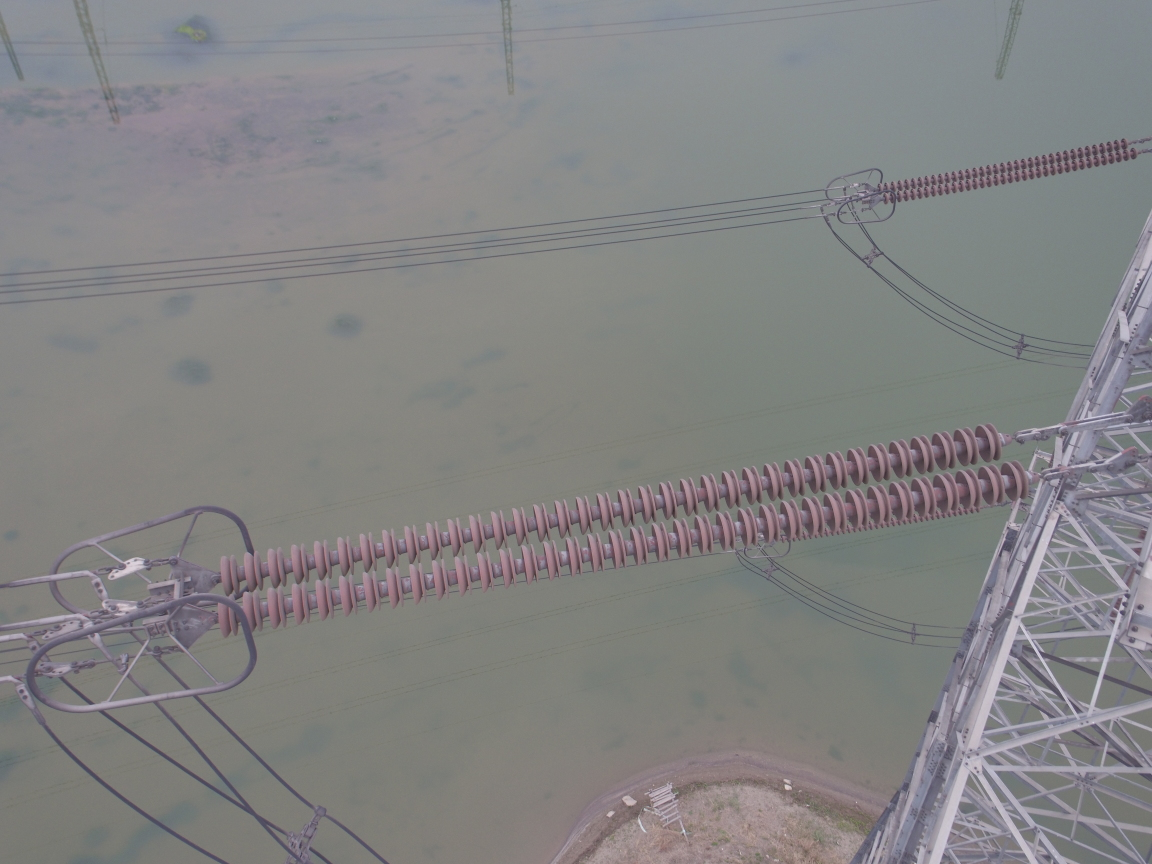insulator: (199, 416, 1088, 642), (872, 134, 1152, 208)
